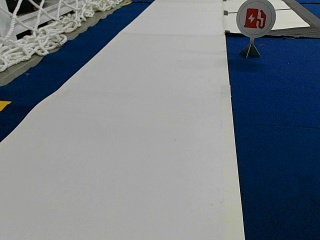battery: (235, 0, 276, 38)
